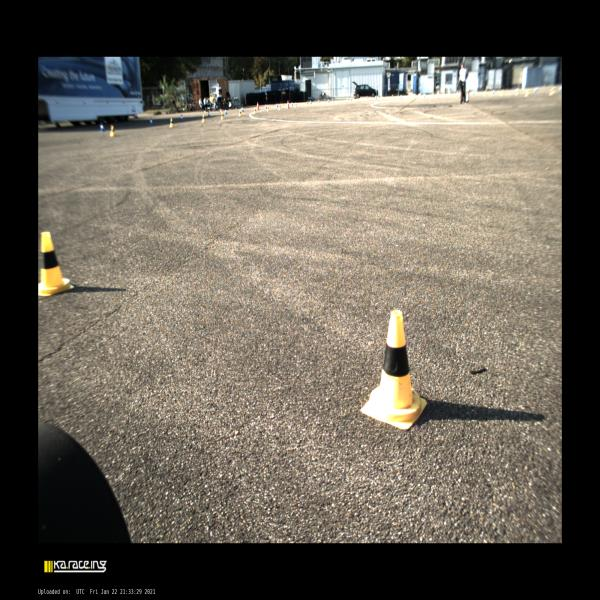blue_cone: (100, 123, 105, 132), (179, 114, 184, 122), (150, 117, 154, 126), (241, 107, 244, 112), (225, 109, 227, 114), (265, 104, 267, 109)
large_orange_cone: (256, 102, 259, 110), (287, 100, 289, 108)
yellow_cone: (361, 311, 426, 428), (38, 232, 74, 296), (110, 124, 115, 136), (169, 118, 174, 128), (202, 114, 206, 123), (221, 112, 224, 120), (238, 110, 242, 116), (279, 104, 281, 110), (295, 102, 297, 108), (267, 106, 269, 111), (254, 108, 256, 113)
